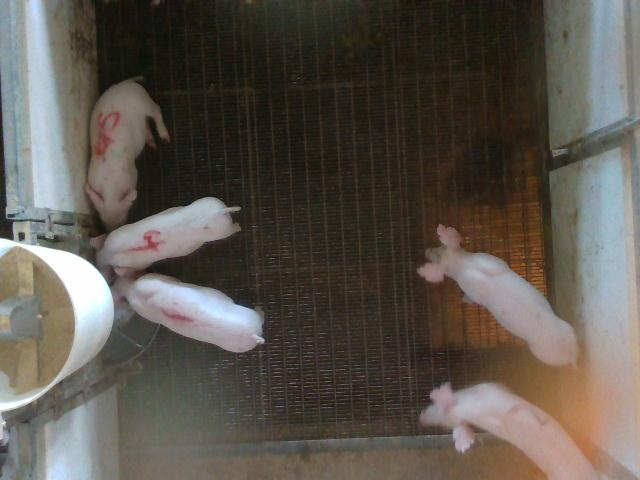pig-1: (111, 274, 264, 352)
pig-2: (420, 382, 600, 479)
pig-4: (98, 198, 240, 269)
pig-5: (86, 79, 170, 231)
